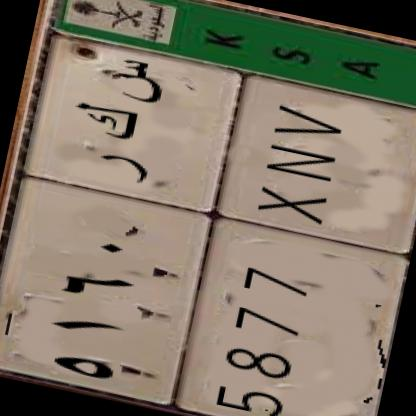english: (166, 65, 416, 416)
